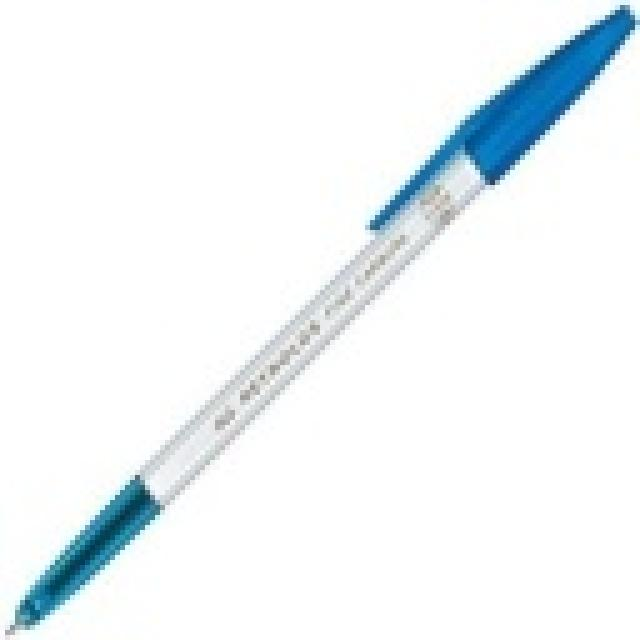pen: (18, 3, 634, 635)
